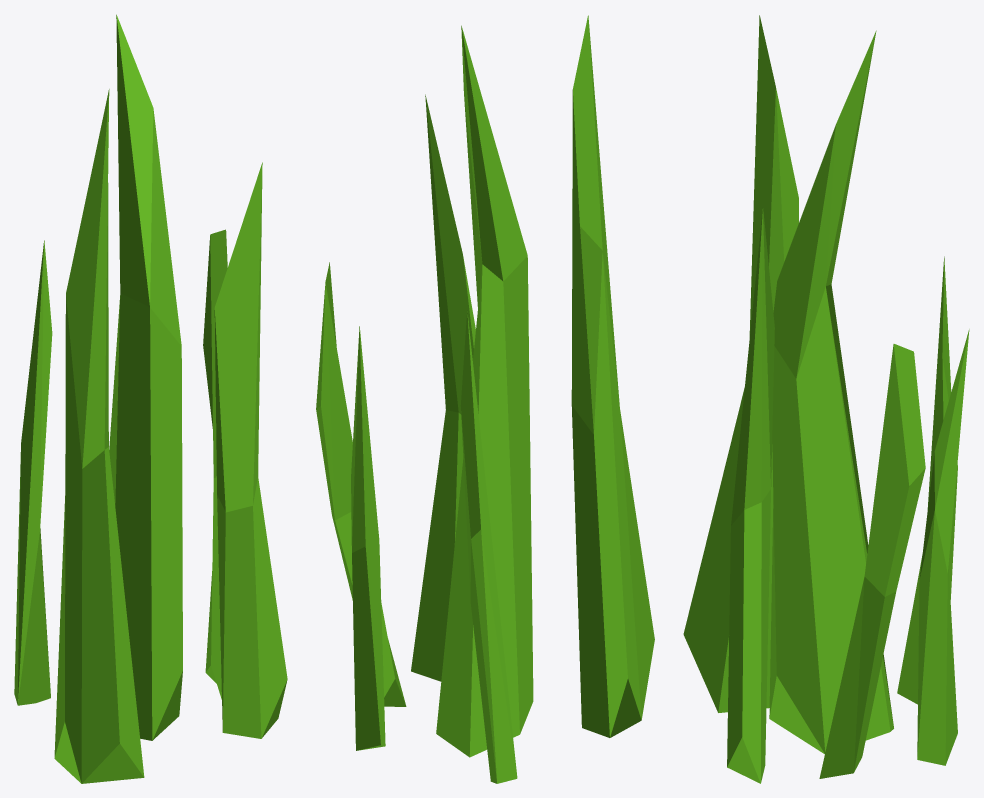
The model's file is grass.fbx.
3 views of the same model, side by side, from view 1: azimuth 30°, elevation 25°; view 2: azimuth 150°, elevation 25°; view 3: azimuth 270°, elevation 25° (orthographic). The views are drawn at different scales.
Visible parts, largest first — view 1: Plane.001; view 2: Plane.001; view 3: Plane.001.
Boxes of the visible parts, <box> form: Plane.001: <box>14,14,287,783</box>; Plane.001: <box>316,15,654,783</box>; Plane.001: <box>683,15,969,783</box>.
Bounding box in the file's own units: 37.01 × 107 × 39.22.
